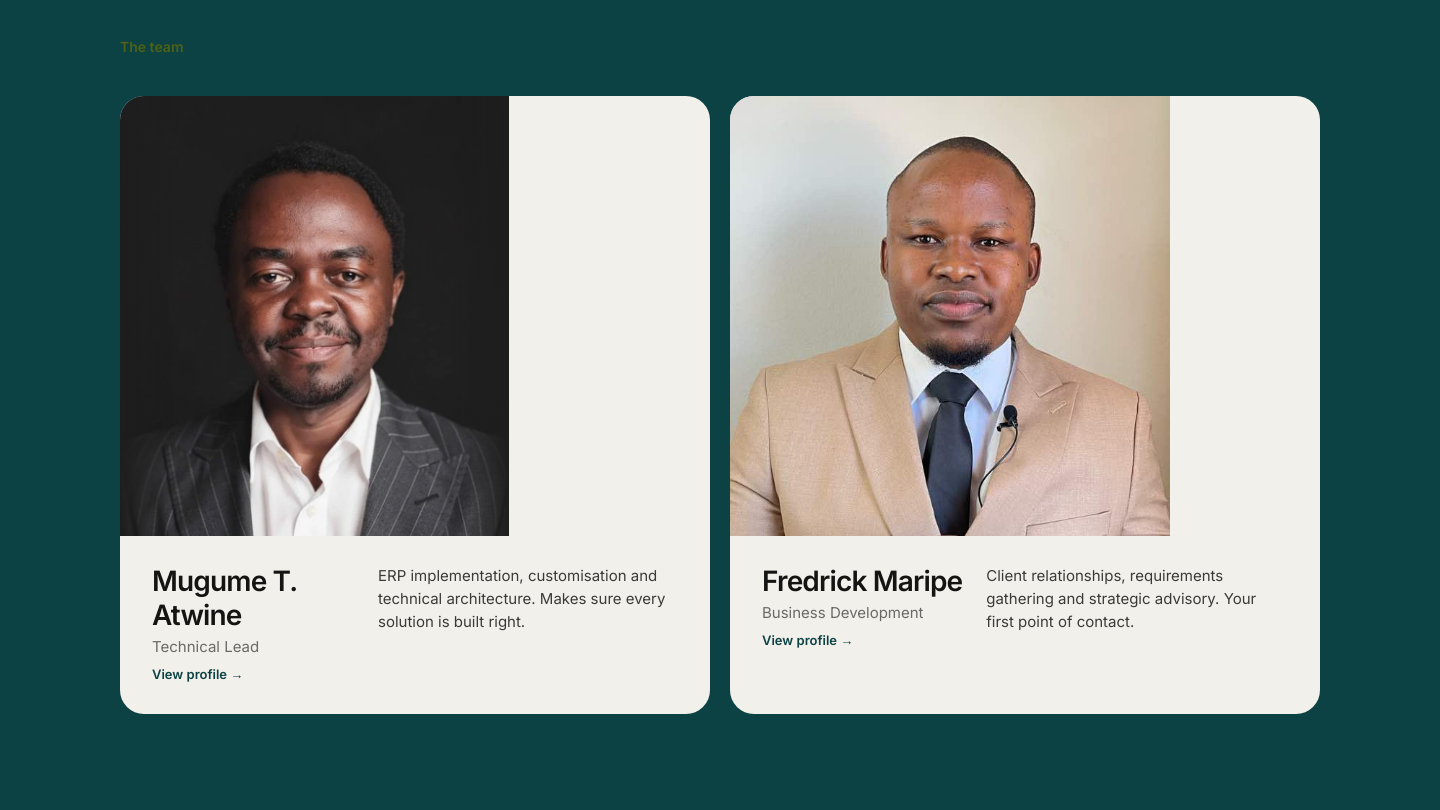
it: About page › opens a profile with the longer bio and experience
The image size is (1440, 810).
(page scrolled)
Click the button with aria-label "Mugume T. Atwine, Technical Lead: view profile".
click(675, 405)  # box [120,96,710,714]
(page scrolled)
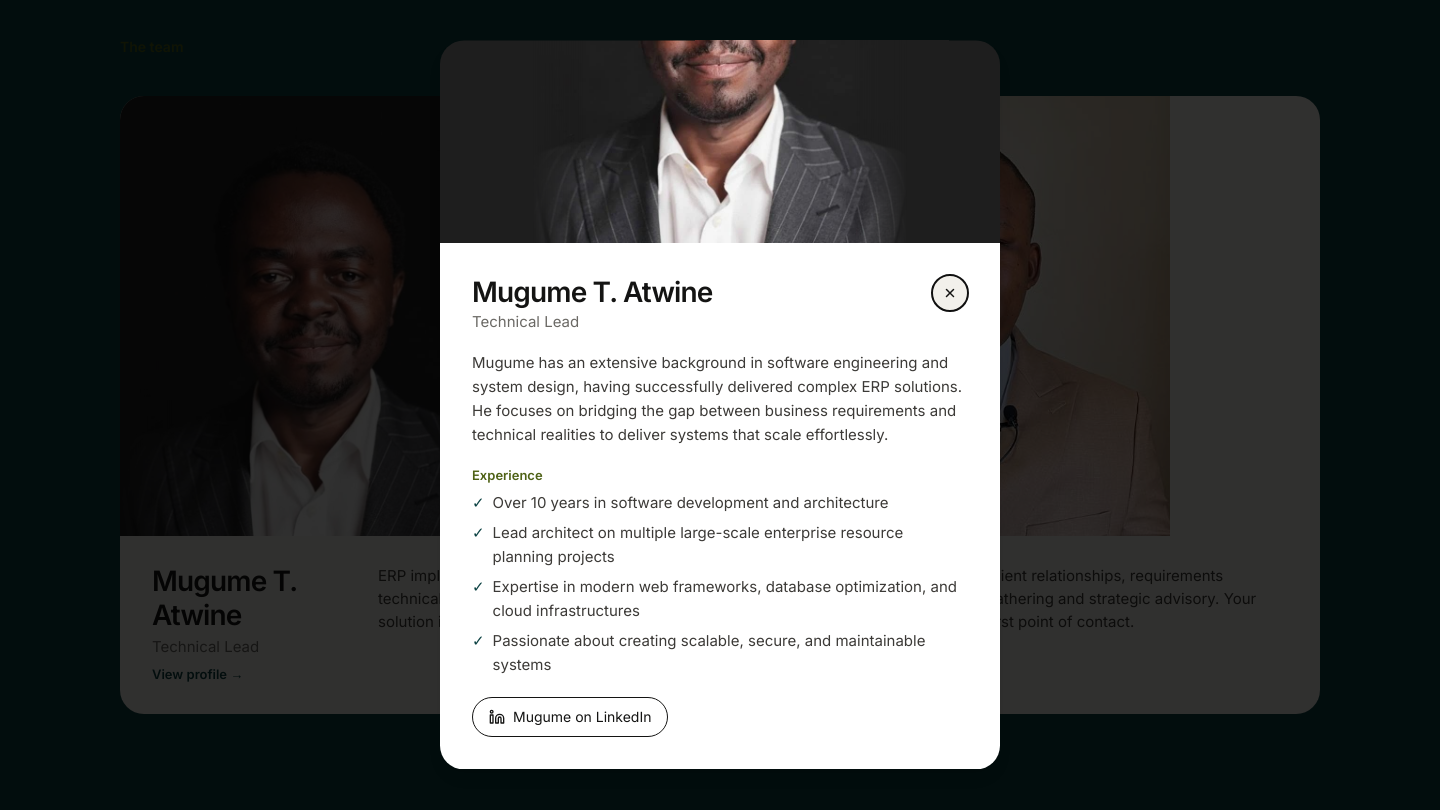
Now the text "extensive background in software engineering" is shown, box [472,354,962,444]
Now the number of buttons named "Close" is 1, box [932,276,968,312]
